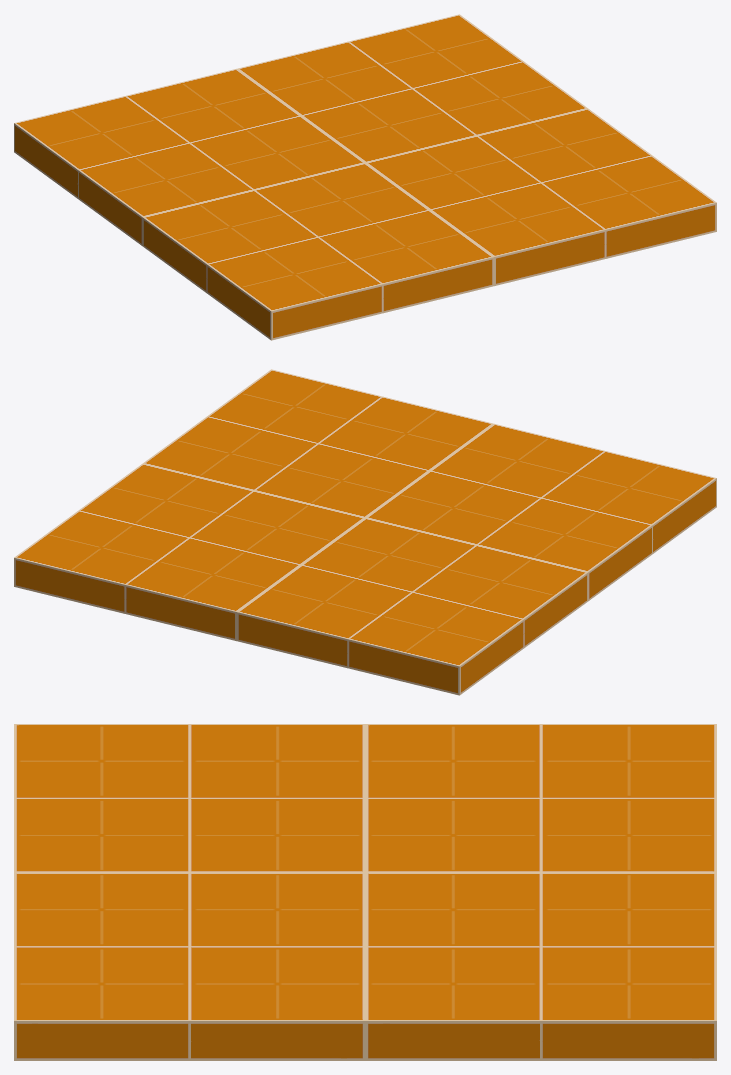
File: Plate8_2x2.obj
The picture shows the model from 3 angles, top to bottom: view 1: azimuth 30°, elevation 25°; view 2: azimuth 150°, elevation 25°; view 3: azimuth 270°, elevation 25°; orthographic projection. The views are drawn at different scales.
Visible parts, largest first — view 1: Plate8_2x2_Cube.375; view 2: Plate8_2x2_Cube.375; view 3: Plate8_2x2_Cube.375.
Part boxes in pixels (x1,y1,x2,y2): Plate8_2x2_Cube.375: (14,14,716,340); Plate8_2x2_Cube.375: (14,369,716,695); Plate8_2x2_Cube.375: (14,724,716,1060).
Size of the model in its own units: 2 by 0.125 by 2.
Materials: 1 (1 with a texture image).
